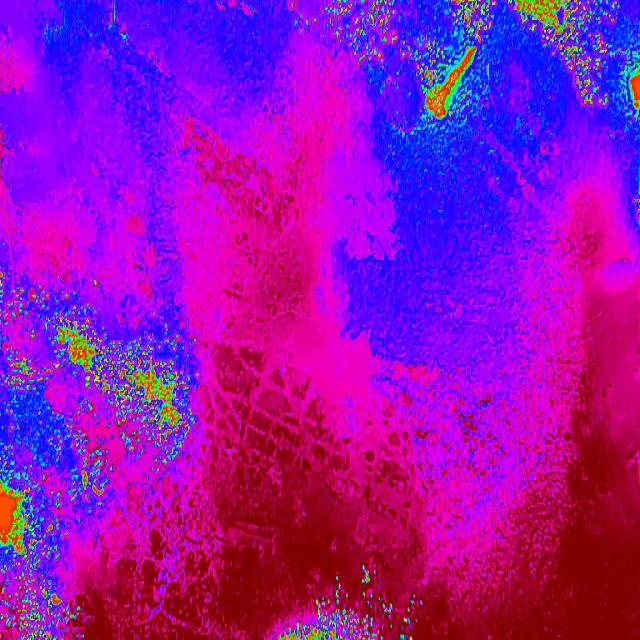fire: (0, 277, 107, 640), (376, 0, 498, 138), (107, 312, 199, 474), (275, 566, 423, 640), (573, 0, 640, 114), (288, 0, 376, 66), (498, 0, 572, 71)
